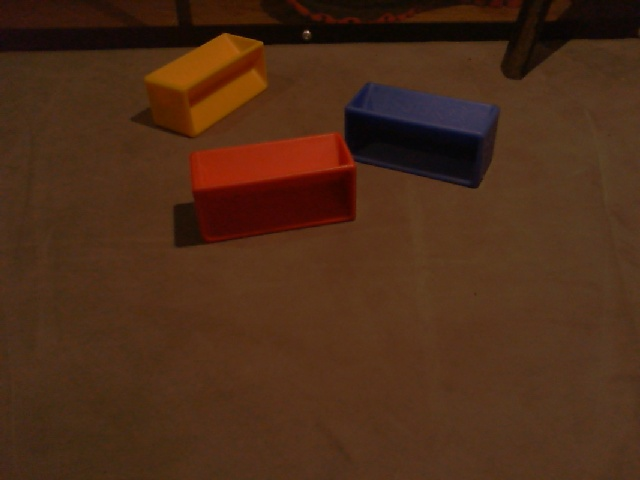BlueSample: (343, 77, 501, 194)
RedSample: (188, 131, 359, 247)
YellowSample: (139, 30, 271, 142)
